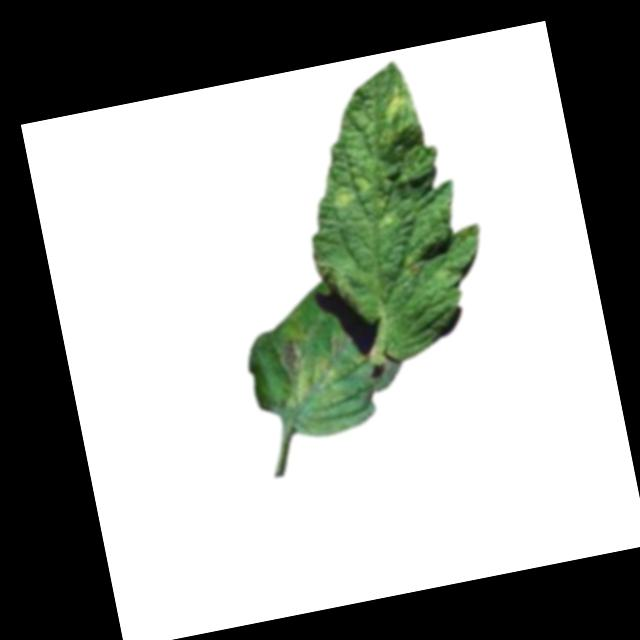Leaf_Mold: (275, 331, 341, 413), (381, 91, 411, 126), (331, 182, 360, 214)
